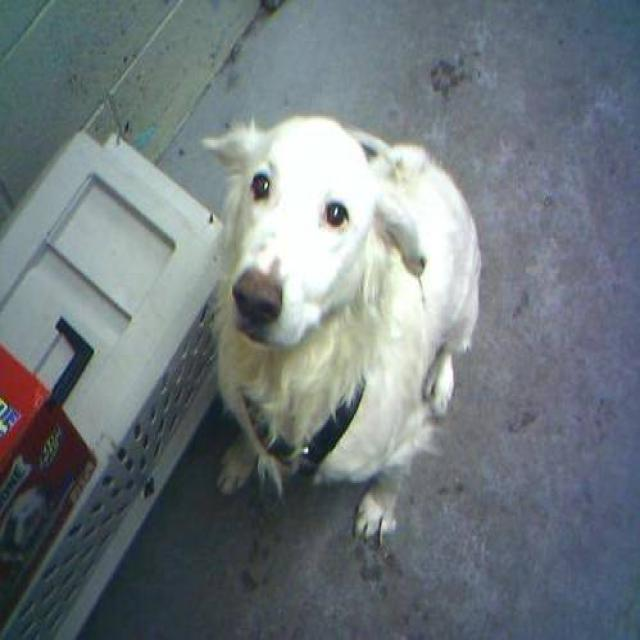dog: (200, 111, 481, 549)
